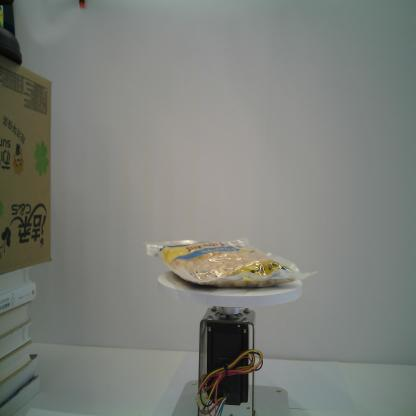Dried Fruit: (146, 238, 319, 288)
